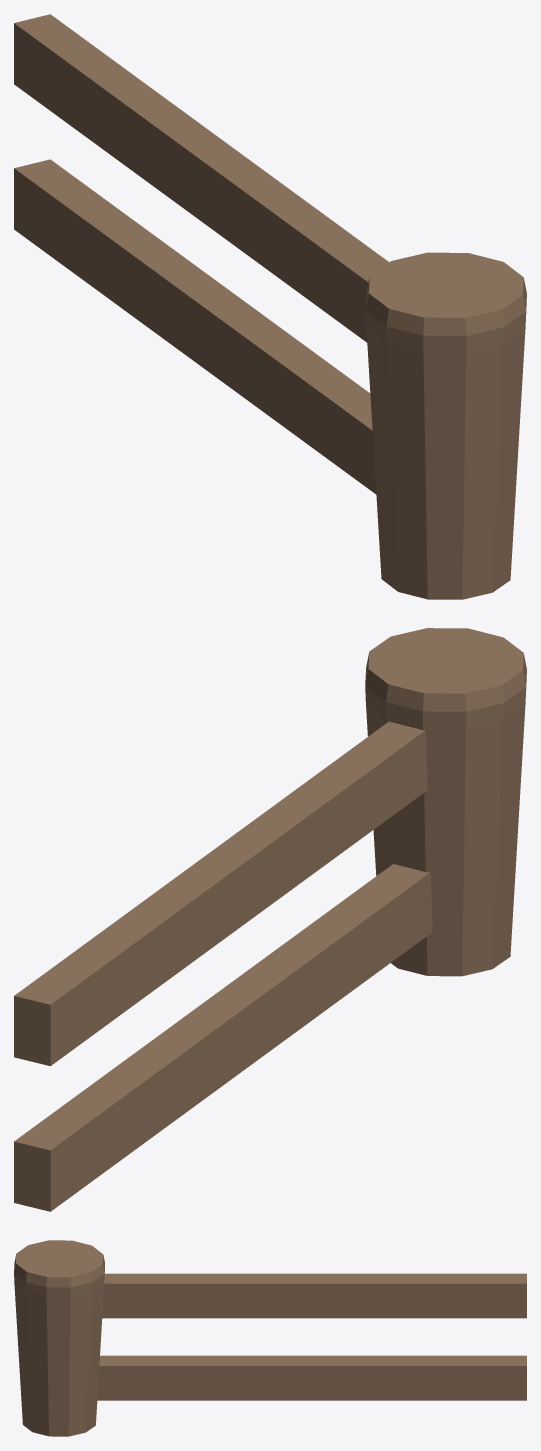
Rendered from Wood_Fence_Partial_Right.fbx.
The picture shows the model from 3 angles, top to bottom: view 1: azimuth 30°, elevation 25°; view 2: azimuth 150°, elevation 25°; view 3: azimuth 270°, elevation 25°; orthographic projection. The views are drawn at different scales.
Visible parts, largest first — view 1: Wood_Fence_Partial_Right; view 2: Wood_Fence_Partial_Right; view 3: Wood_Fence_Partial_Right.
Part boxes in pixels (x1=…): Wood_Fence_Partial_Right: x1=14, y1=14, x2=526, y2=599; Wood_Fence_Partial_Right: x1=14, y1=628, x2=526, y2=1211; Wood_Fence_Partial_Right: x1=14, y1=1240, x2=526, y2=1436.
Size of the model in its own units: 0.4897 by 0.9619 by 2.76.
